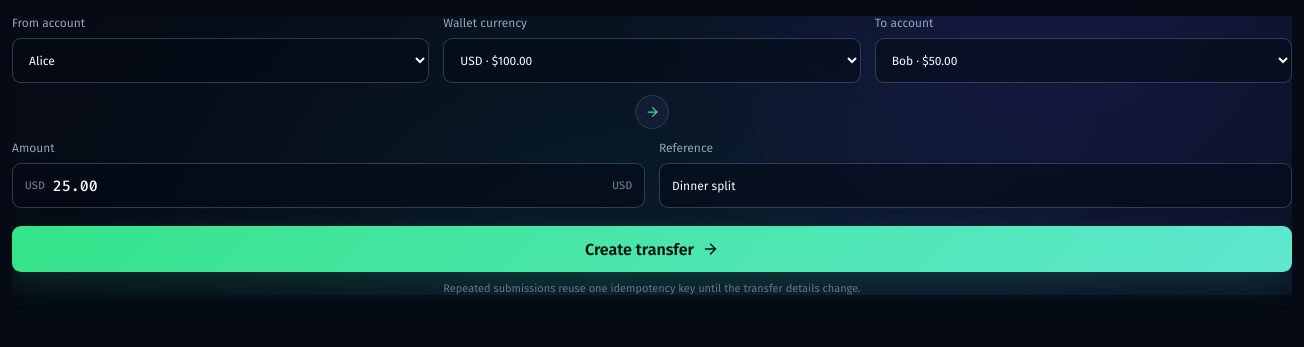
Test: TransferForm › blocks transfer when no other customer owns the selected currency
Select "Bob" in the dropdown labelled "From account". click: {"x": 221, "y": 60}
box: [12, 38, 429, 83]
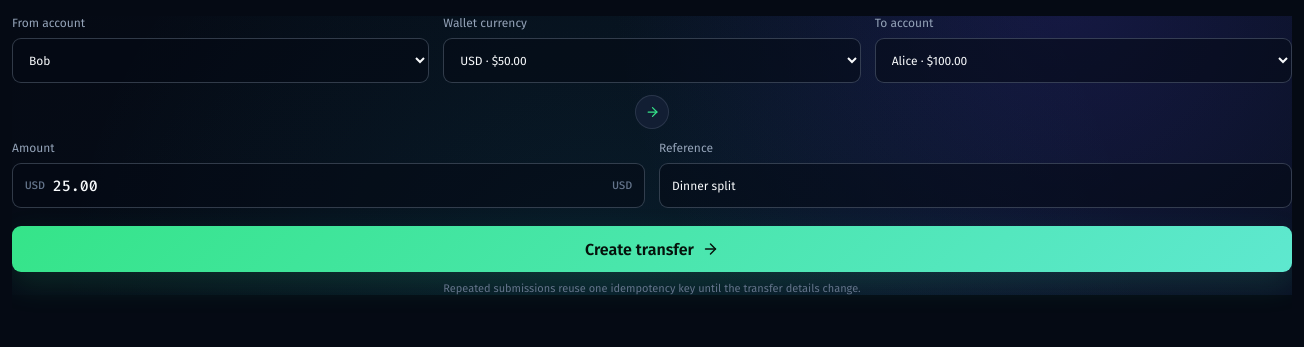
Select "GBP · £30.00" in the dropdown labelled "Wallet currency". click: {"x": 652, "y": 60}
box: [443, 38, 861, 83]
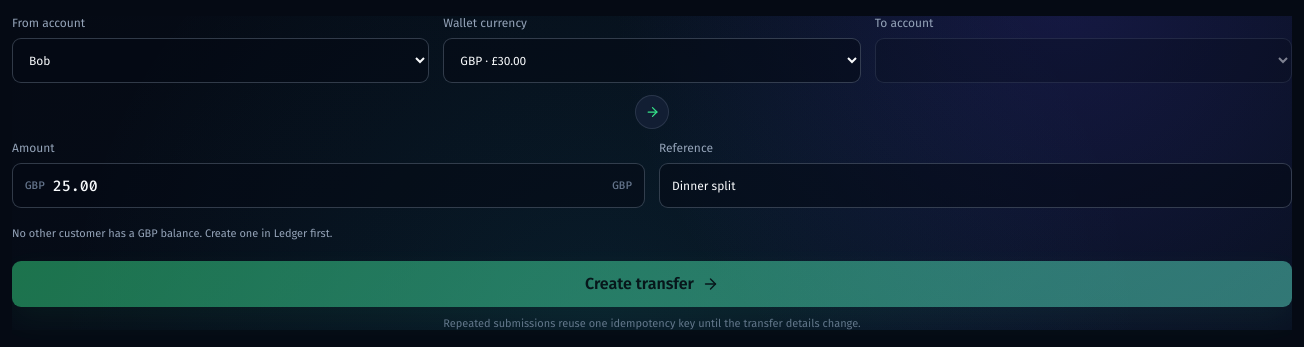
Result: the button "Create transfer" is disabled at [12, 260, 1292, 306]
Result: the text "No other customer has a GBP balance" is shown at [12, 227, 332, 240]
